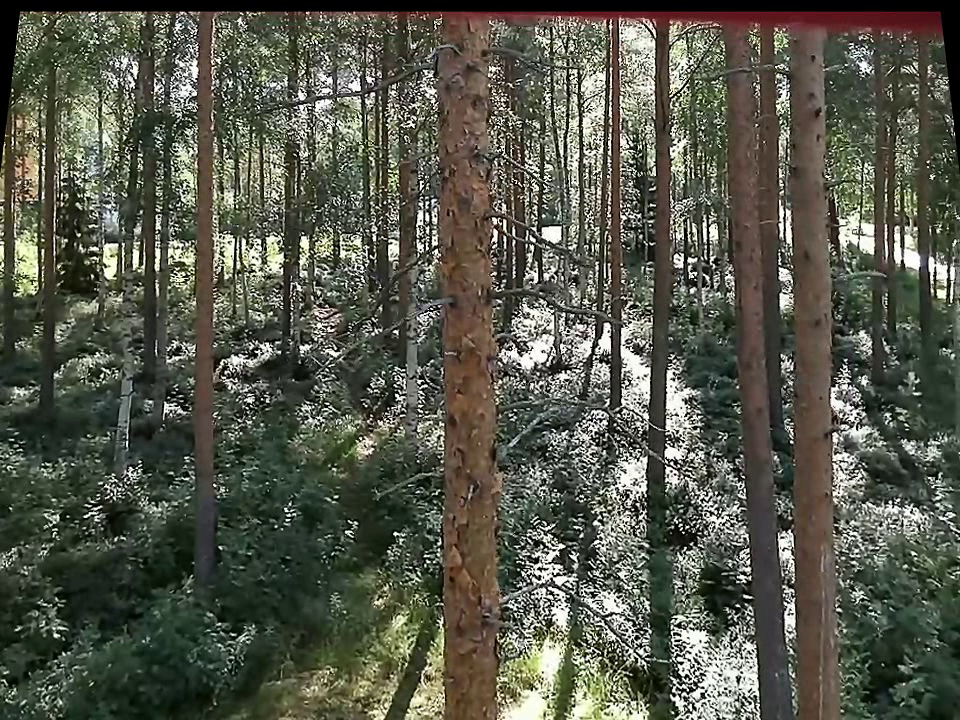branch: (245, 49, 417, 133), (497, 275, 624, 335), (487, 37, 587, 85), (696, 56, 788, 90)
trunk: (429, 15, 512, 703), (708, 24, 792, 695), (780, 20, 853, 707), (187, 22, 227, 592), (29, 72, 70, 419), (646, 27, 679, 445), (111, 122, 148, 470), (606, 35, 628, 378)
